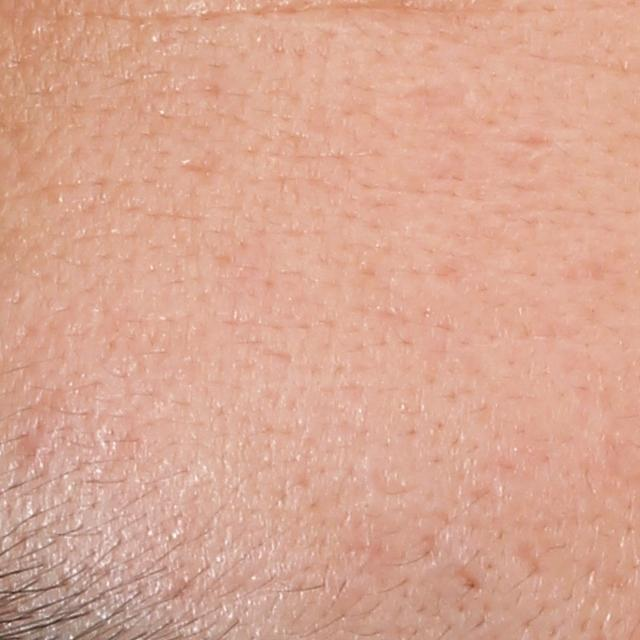atrophic_scar: (185, 147, 228, 186), (512, 540, 546, 582)
